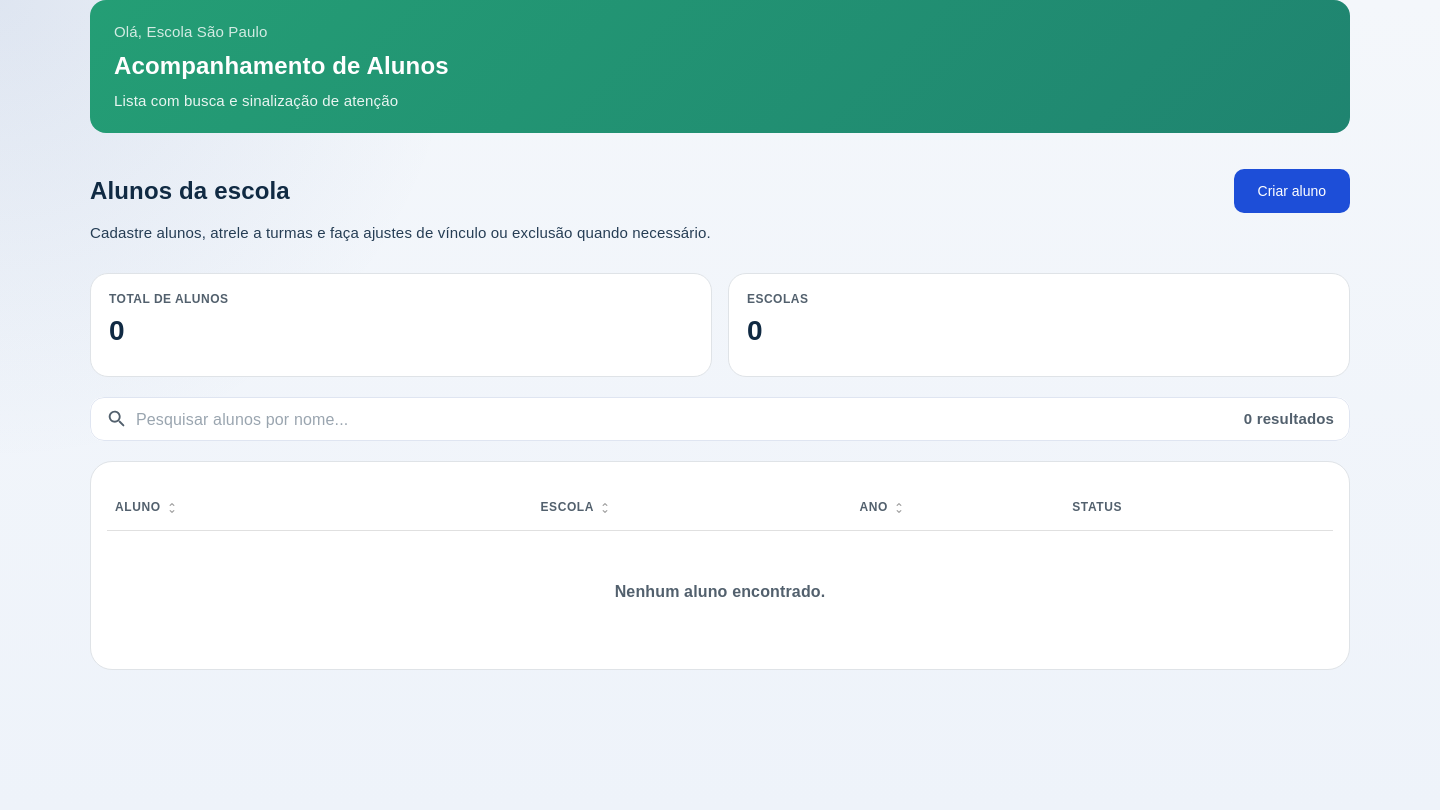
SchoolStudentsPage filters students and count by school ID and opens create student modal with school pre-selected and disabled
Click the button "Criar aluno": (1292, 191) [1234,169,1350,213]
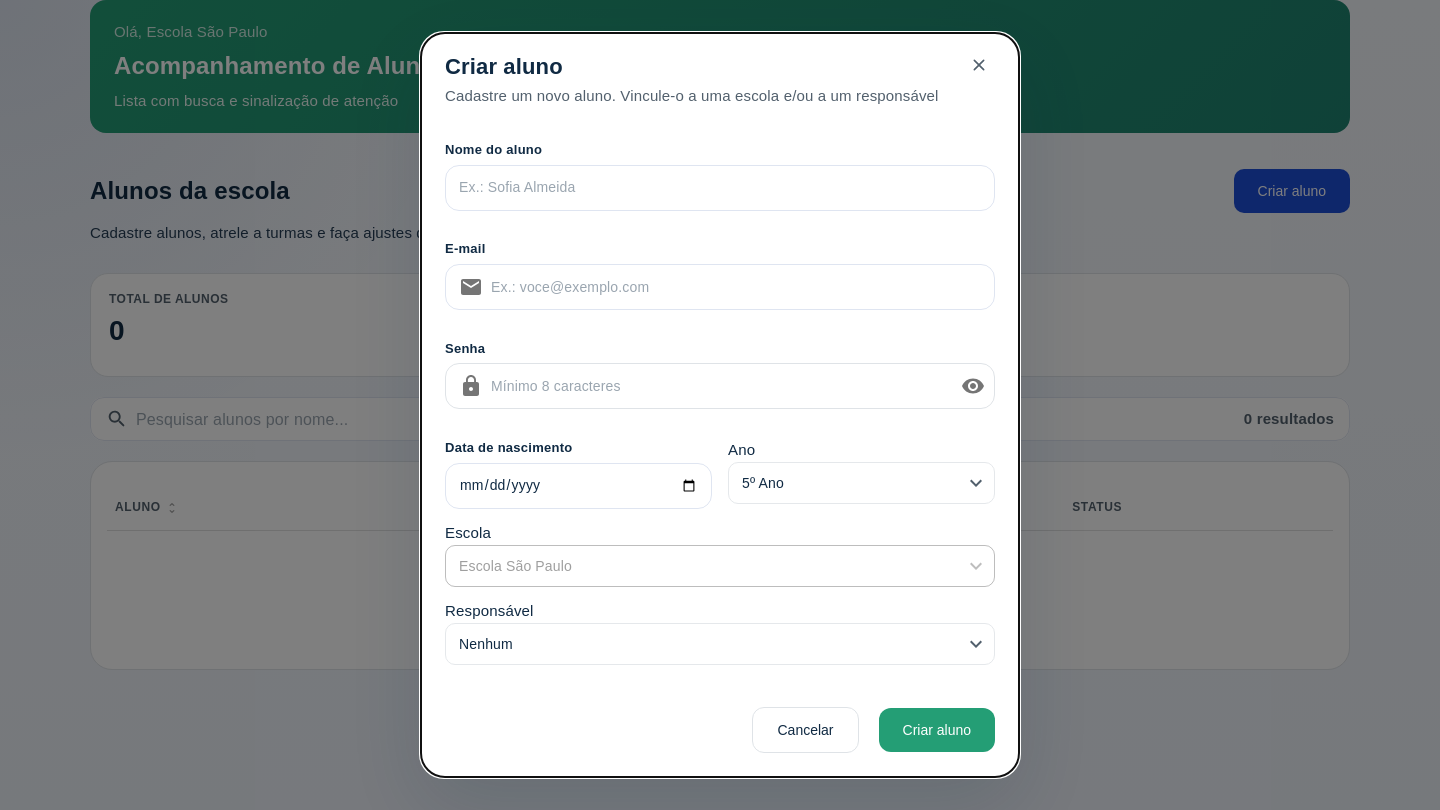
Result: the dropdown labelled "Escola São Paulo" is shown at [459,558,572,574]
